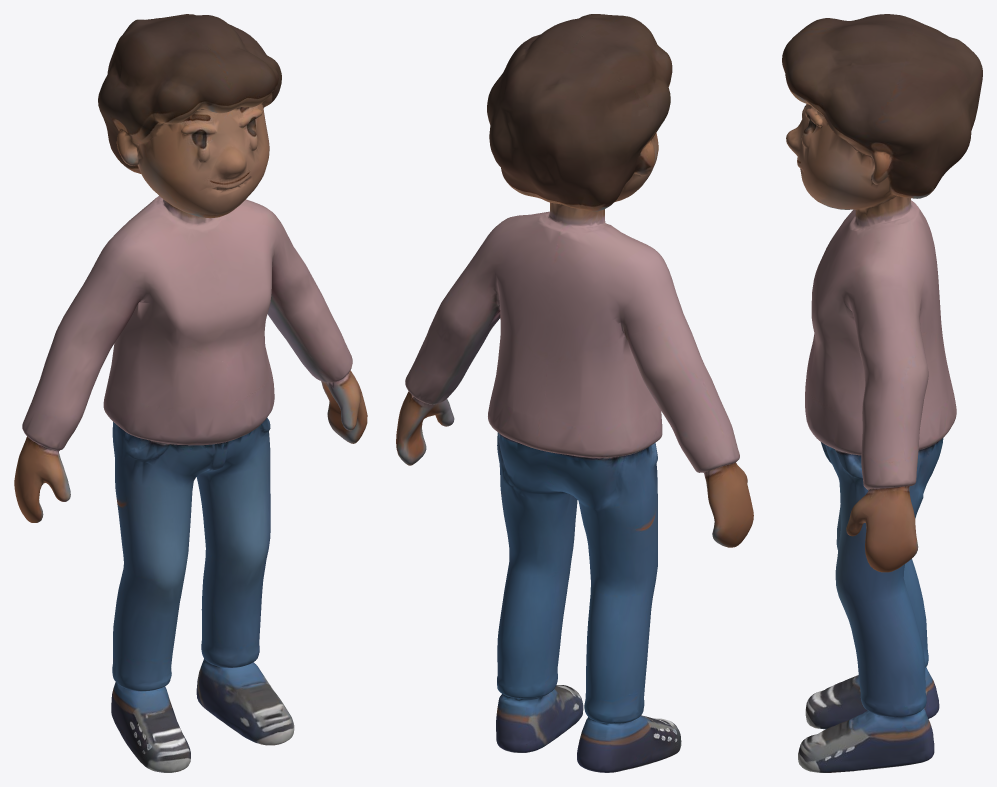
Rendered from customer_c.glb.
The picture shows the model from 3 angles, left to right: view 1: azimuth 30°, elevation 25°; view 2: azimuth 150°, elevation 25°; view 3: azimuth 270°, elevation 25°; orthographic projection.
Parts seen in each view (by area): view 1: tripo_node_1a71df15-f6da-4758-a696-016eddd1523c; view 2: tripo_node_1a71df15-f6da-4758-a696-016eddd1523c; view 3: tripo_node_1a71df15-f6da-4758-a696-016eddd1523c.
Boxes of the visible parts, bbox=[...] form: tripo_node_1a71df15-f6da-4758-a696-016eddd1523c: bbox=[14, 14, 367, 772]; tripo_node_1a71df15-f6da-4758-a696-016eddd1523c: bbox=[396, 14, 753, 772]; tripo_node_1a71df15-f6da-4758-a696-016eddd1523c: bbox=[782, 14, 982, 772].
Bounding box in the file's own units: 0.5002 × 0.9999 × 0.2517.
1 material, 1 textured.
